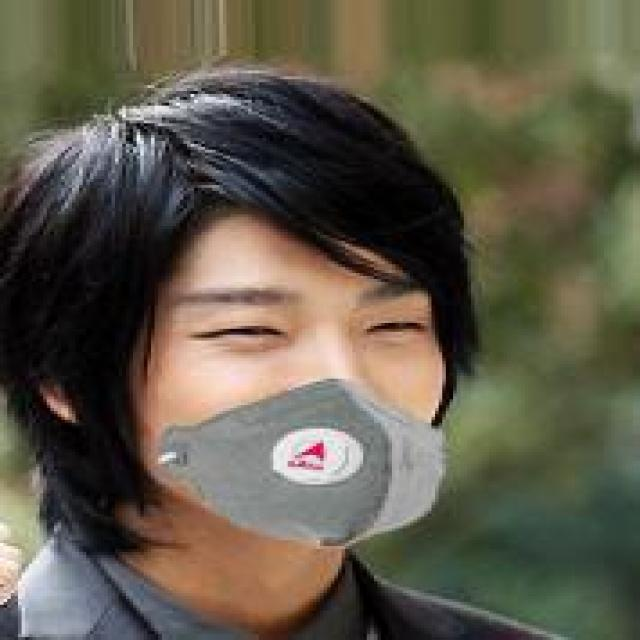mask: (65, 56, 507, 558)
